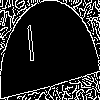I: (25, 25, 38, 72)
